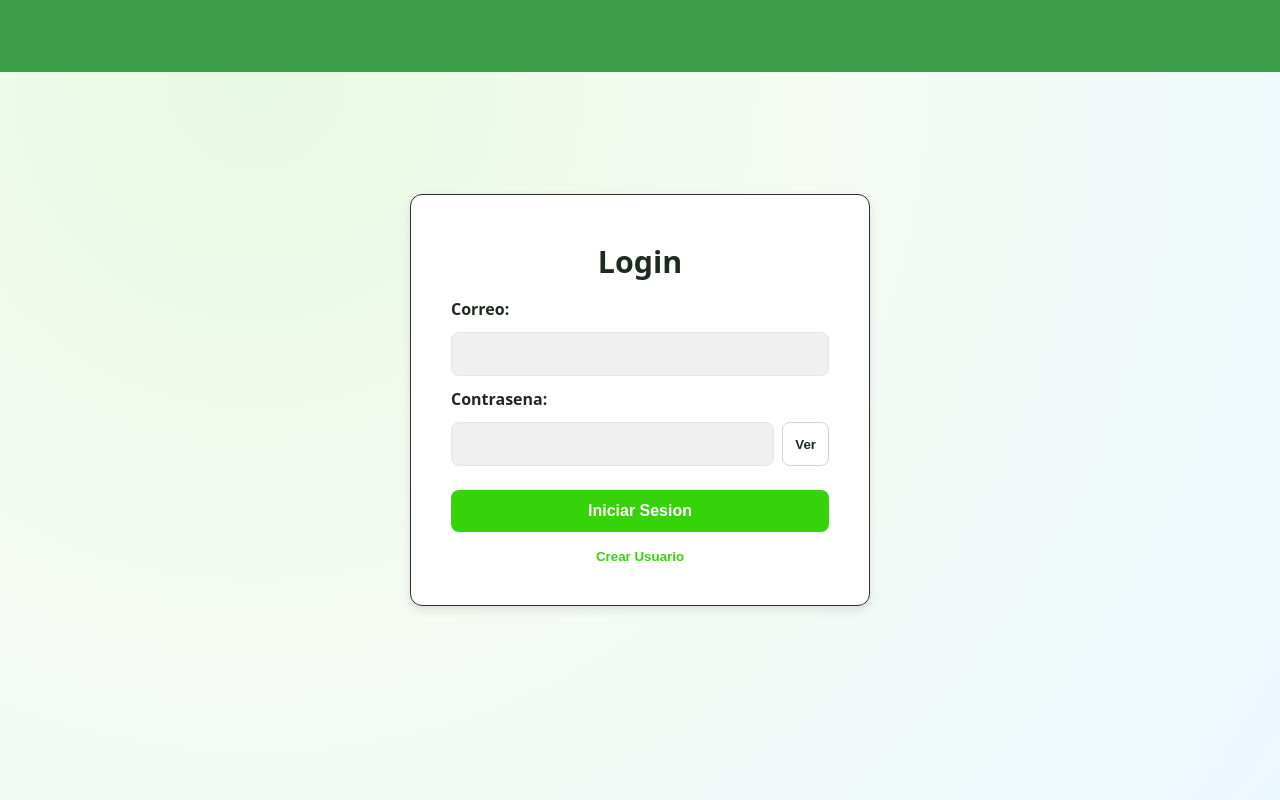
Test case: LoginPage › shows validation errors on invalid submit
Click the button "Iniciar Sesion": coordinates (640, 511) [451,490,829,532]
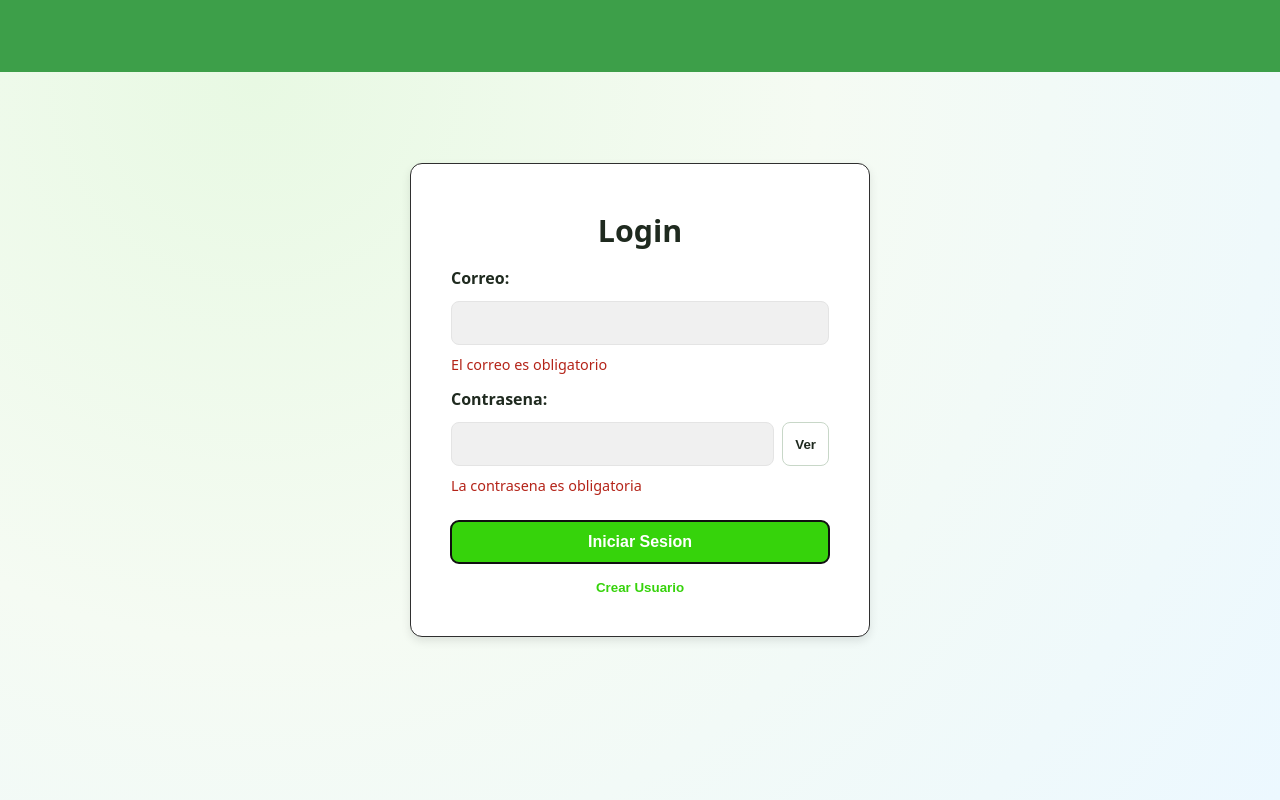
Result: the text "El correo es obligatorio" is shown at [451,355,607,374]
Result: the text "La contrasena es obligatoria" is shown at [451,476,642,495]
